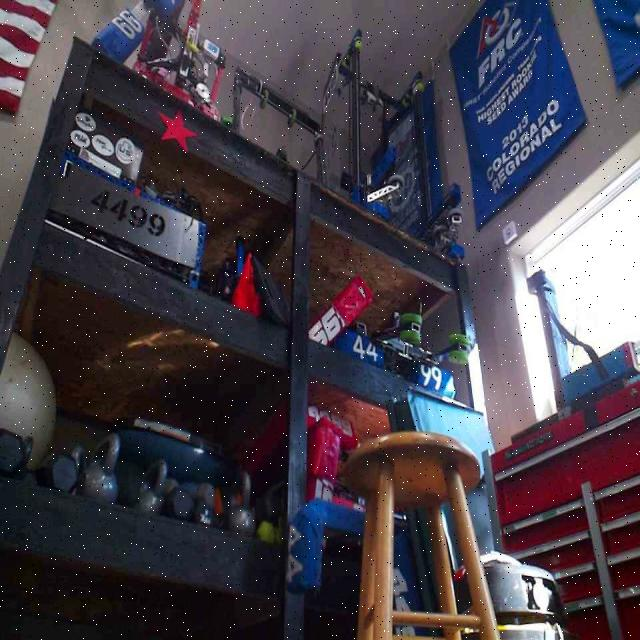star_red: (158, 108, 197, 150)
